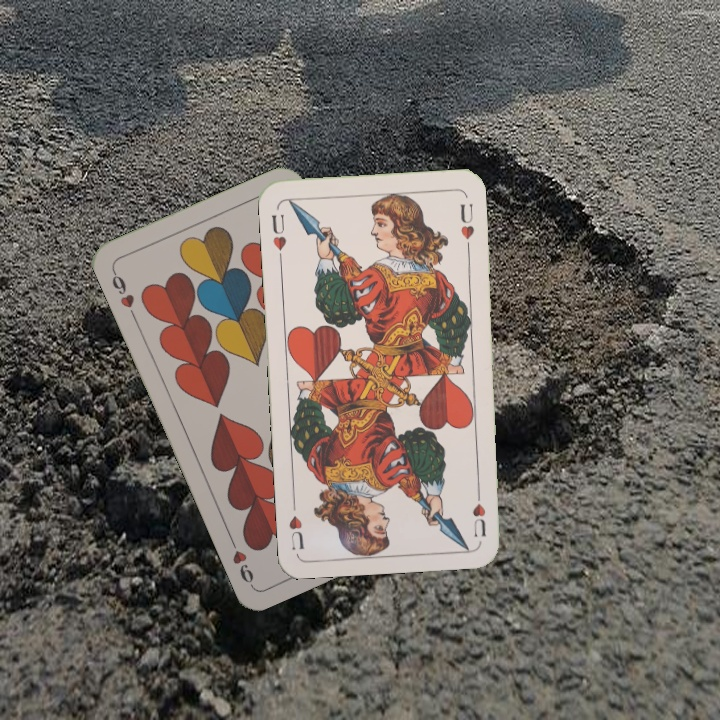H9: (107, 265, 139, 322)
HU: (468, 483, 489, 540), (267, 210, 289, 253)
